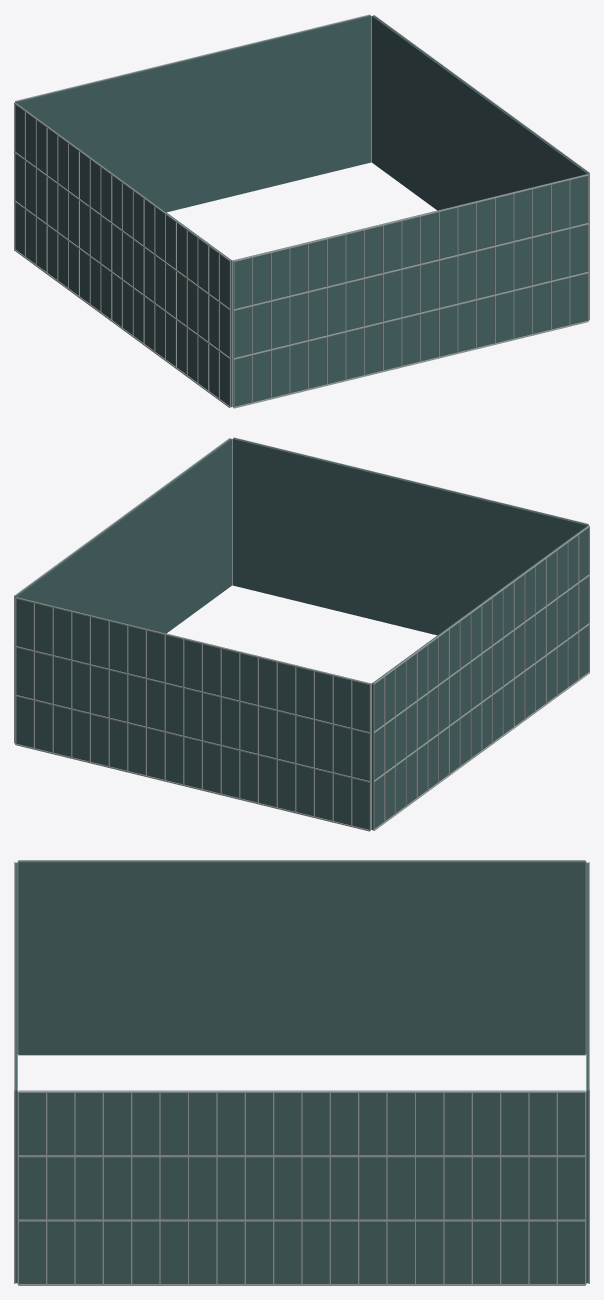
Rendered from jaqua-exterior-detail-2026-11-04.glb.
3 renders of one model, top to bottom at view 1: azimuth 30°, elevation 25°; view 2: azimuth 150°, elevation 25°; view 3: azimuth 270°, elevation 25°, orthographic. The views are drawn at different scales.
Parts seen in each view (by area): view 1: exterior-detail-building; view 2: exterior-detail-building; view 3: exterior-detail-building.
Part boxes in pixels (<box>): exterior-detail-building: <box>14,14,589,408</box>; exterior-detail-building: <box>14,437,589,831</box>; exterior-detail-building: <box>14,860,589,1285</box>.
Bounding box in the file's own units: 38.6 × 15.12 × 40.6.
